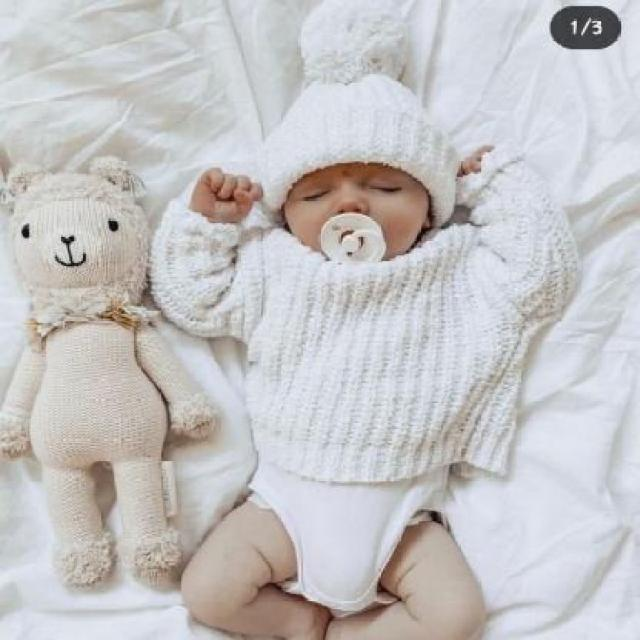baby: (147, 75, 576, 637)
